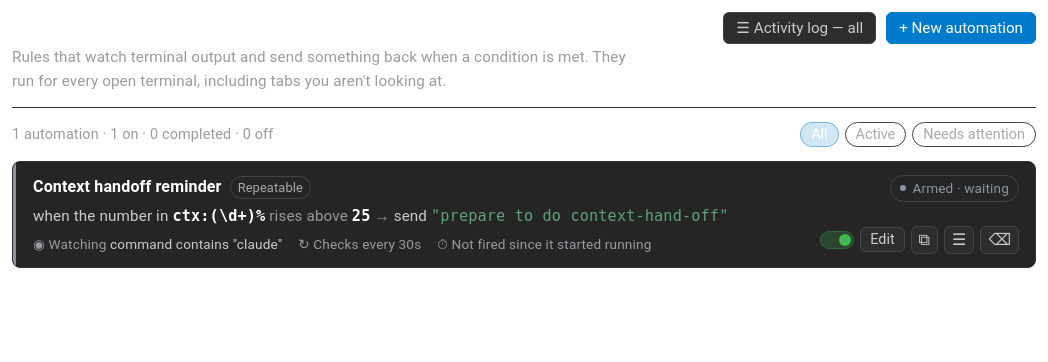
AutomationsPanel › says so when the verbose switch is flicked on a rule that has already been deleted
The image size is (1048, 362).
Click the button named "Activity log for Context handoff reminder".
click(959, 240)  # box 944,226 -> 974,254
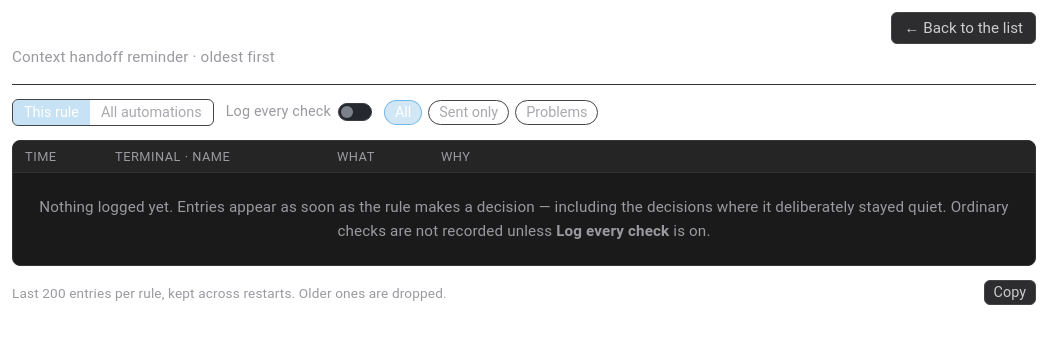
Click the switch named "Log every check for Context handoff reminder".
click(355, 112)  # box 338,103 -> 372,121
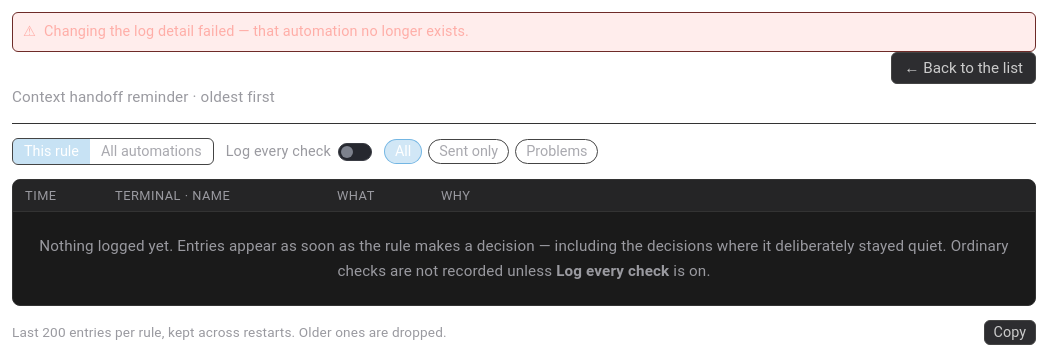
Expected: the text "that automation no longer exists" is shown, 44,23 -> 469,40
